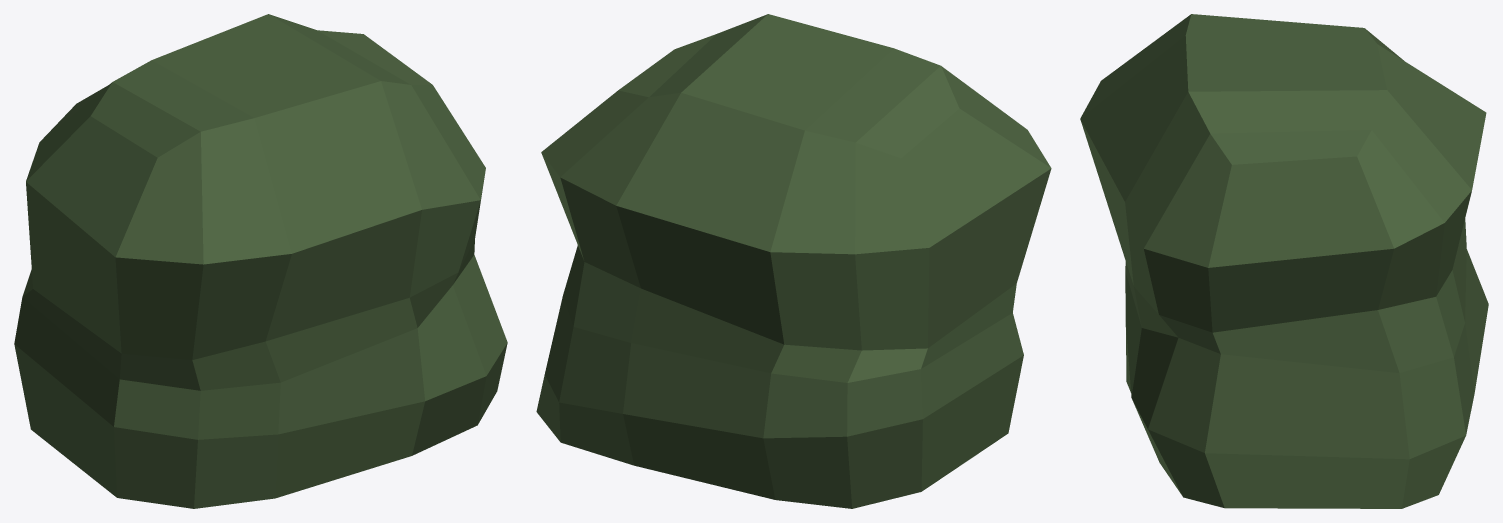
The model's file is BushBerries_2.glb.
3 views of the same model, side by side, from view 1: azimuth 30°, elevation 25°; view 2: azimuth 150°, elevation 25°; view 3: azimuth 270°, elevation 25° (orthographic). The views are drawn at different scales.
Parts seen in each view (by area): view 1: BushBerries_2_Cube.026; view 2: BushBerries_2_Cube.026; view 3: BushBerries_2_Cube.026.
Boxes of the visible parts, left/top/right/bottom form: BushBerries_2_Cube.026: left=14, top=14, right=507, bottom=508; BushBerries_2_Cube.026: left=536, top=14, right=1051, bottom=508; BushBerries_2_Cube.026: left=1080, top=14, right=1488, bottom=508.
Bounding box in the file's own units: 0.5923 × 0.5056 × 0.5147.
